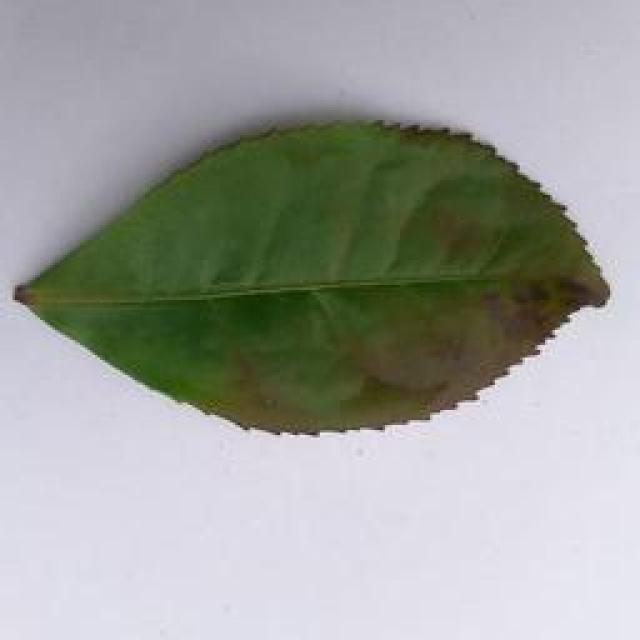Red Leaf Spot: (0, 96, 620, 452)
